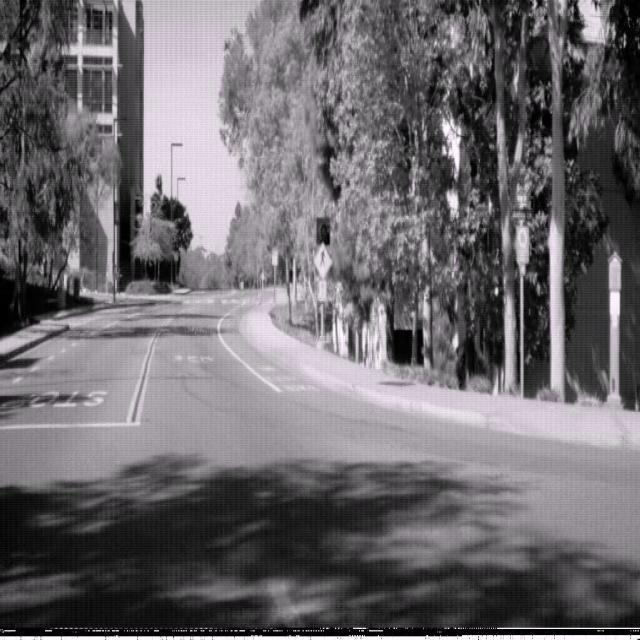pedestrianCrossing: (312, 240, 332, 281)
